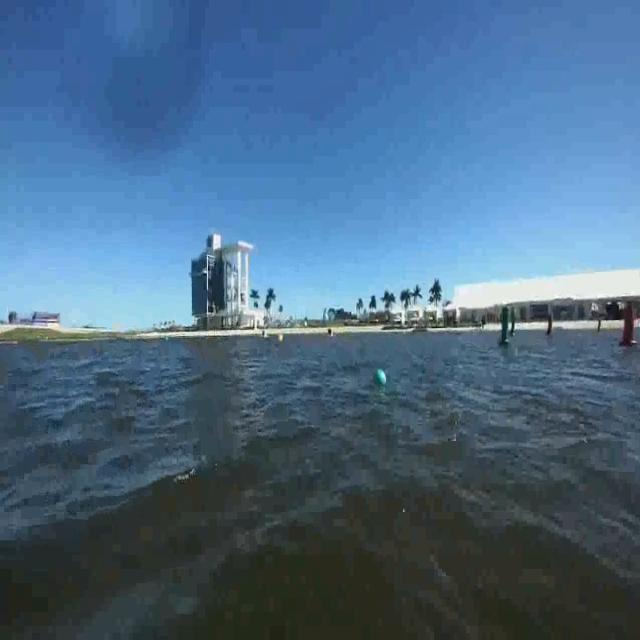green-buoy: (378, 371, 386, 386)
green-column-buoy: (497, 305, 511, 348), (511, 308, 519, 335)
red-column-buoy: (619, 303, 638, 349), (548, 317, 556, 338)
yellow-buoy: (278, 335, 285, 345)
